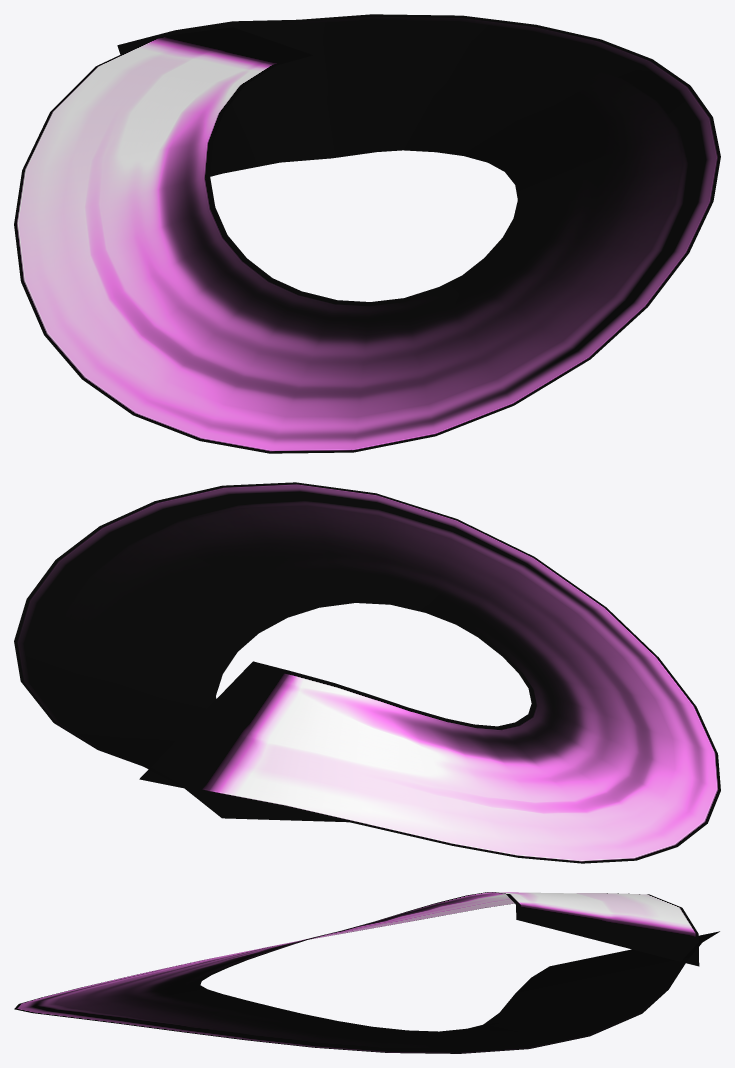
The model's file is Mesh_Snowwhite_007_wjl.FBX.
The picture shows the model from 3 angles, top to bottom: view 1: azimuth 30°, elevation 25°; view 2: azimuth 150°, elevation 25°; view 3: azimuth 270°, elevation 25°; orthographic projection. The views are drawn at different scales.
Parts seen in each view (by area): view 1: Plane002; view 2: Plane002; view 3: Plane002.
Boxes of the visible parts, x1=… form: Plane002: x1=14, y1=14, x2=720, y2=453; Plane002: x1=14, y1=482, x2=720, y2=863; Plane002: x1=14, y1=892, x2=719, y2=1053.
Bounding box in the file's own units: 224 × 67.23 × 256.
